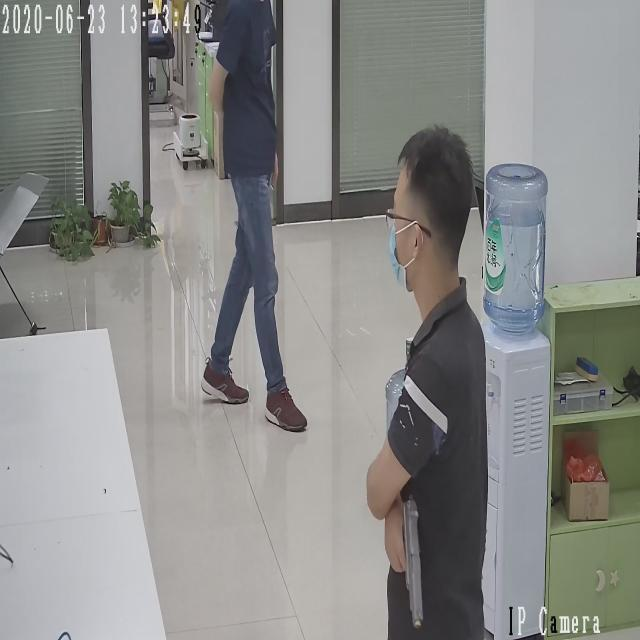gun-knife-thesis - v11 Yolov5 augmented: (385, 487, 427, 626)
